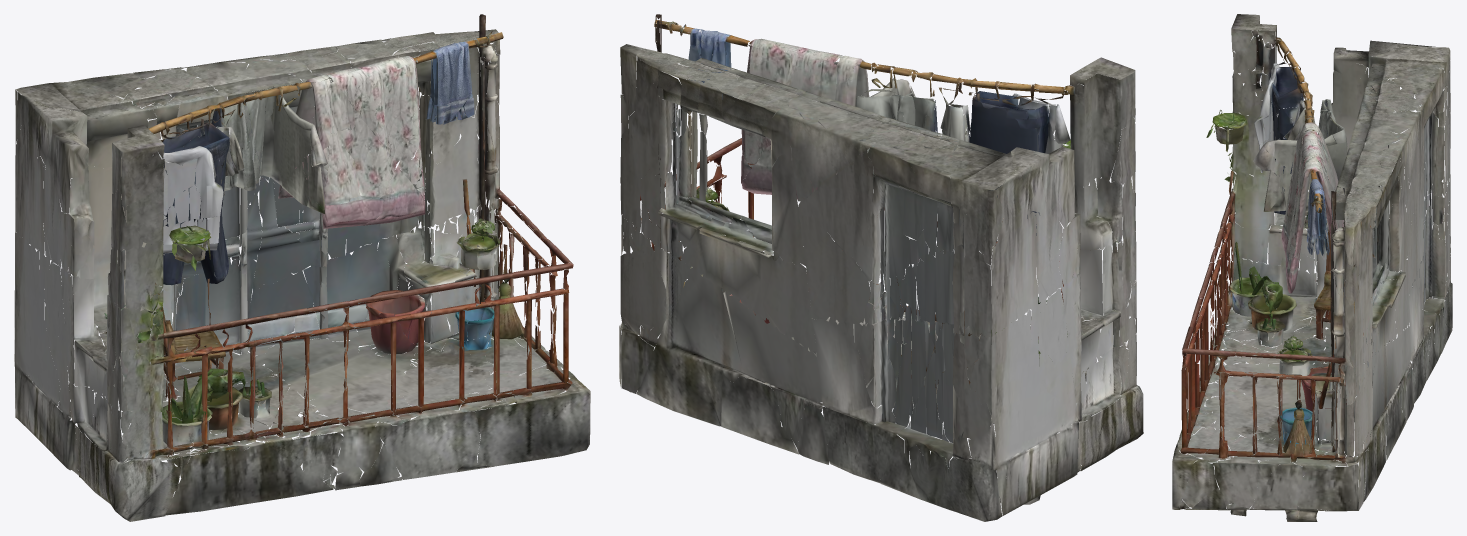
Rendered from m_balcony_open.glb.
The picture shows the model from 3 angles, left to right: view 1: azimuth 30°, elevation 25°; view 2: azimuth 150°, elevation 25°; view 3: azimuth 270°, elevation 25°; orthographic projection. The views are drawn at different scales.
Parts seen in each view (by area): view 1: tripo_node_e651dbb8-2b53-4e8b-ba59-bad44320cbfc; view 2: tripo_node_e651dbb8-2b53-4e8b-ba59-bad44320cbfc; view 3: tripo_node_e651dbb8-2b53-4e8b-ba59-bad44320cbfc.
Boxes of the visible parts, box(x1,y1,x2,y2) form: tripo_node_e651dbb8-2b53-4e8b-ba59-bad44320cbfc: box(14, 14, 590, 521); tripo_node_e651dbb8-2b53-4e8b-ba59-bad44320cbfc: box(619, 14, 1143, 521); tripo_node_e651dbb8-2b53-4e8b-ba59-bad44320cbfc: box(1172, 14, 1452, 521).
Size of the model in its own units: 2.35 by 1.91 by 1.48.
1 material, 1 textured.
